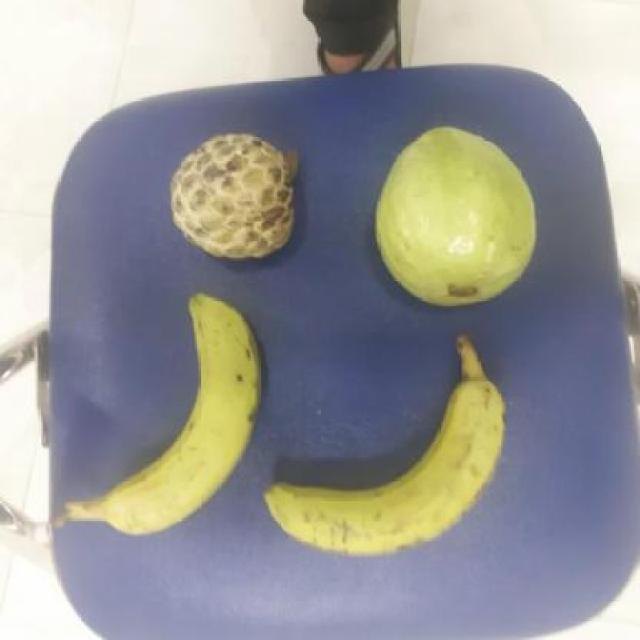banana: (271, 376, 518, 556), (100, 294, 268, 538)
guava: (379, 129, 546, 306)
sugar apple: (168, 133, 303, 259)
